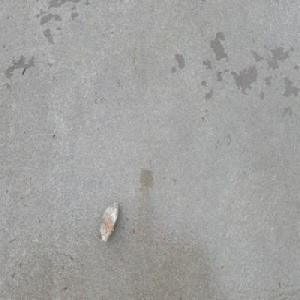Rock: (99, 198, 119, 243)
